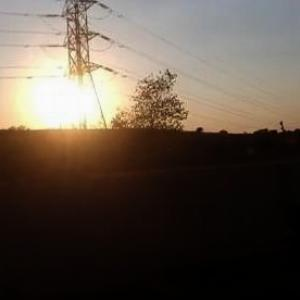follow: (281, 156, 300, 299)
